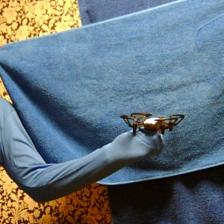drone: (120, 107, 188, 135)
